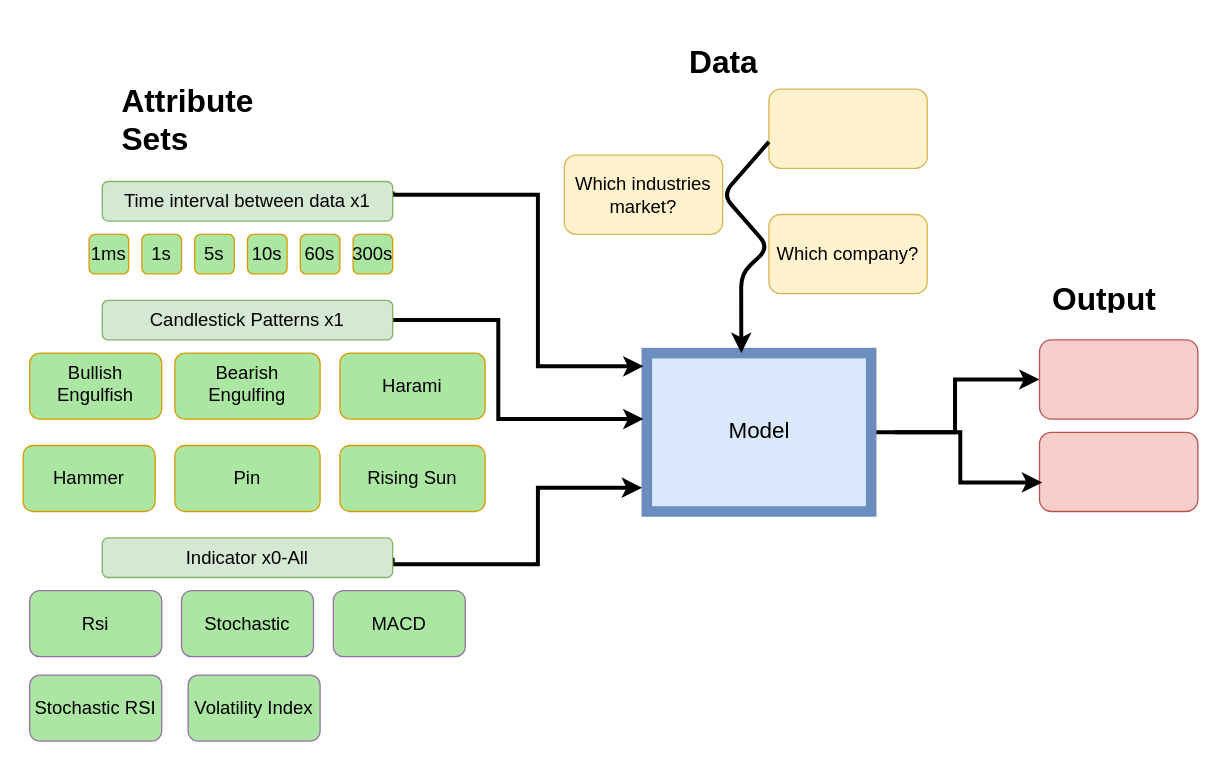
Image size: 1221x764. Some labels were removed from this diagram. The shapes that lost their labels are listed below. From the top down, each one's centre as x and y in pixels, then its label:
the point at 847,128: Which countries market?
the point at 1118,379: Level of expected increase or decrease
the point at 1118,471: Buy/Sell/Hold
